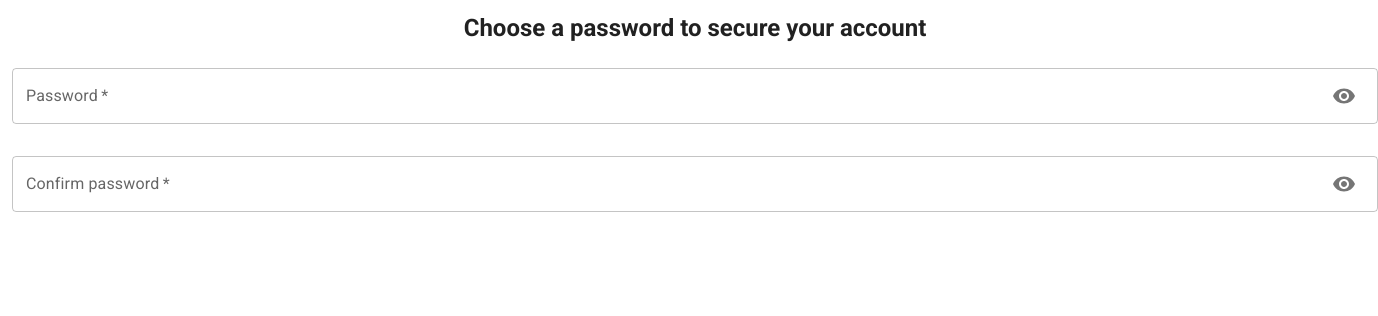
AccountSecurityStep › should show an error if password is missing uppercase letter
Type "john123!" into the password field labelled "Password *" at {"x": 664, "y": 96}, box [12,68,1316,124]
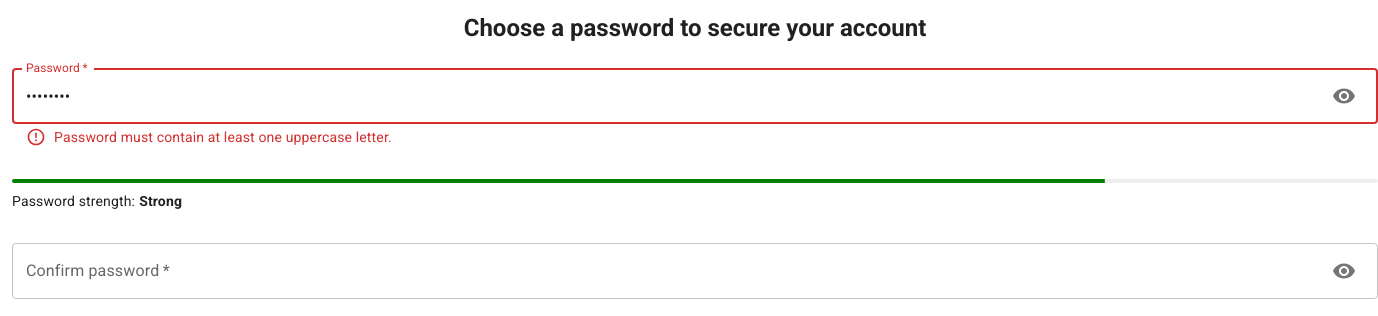
Now the message shows "uppercase", box [54,129,392,145]
